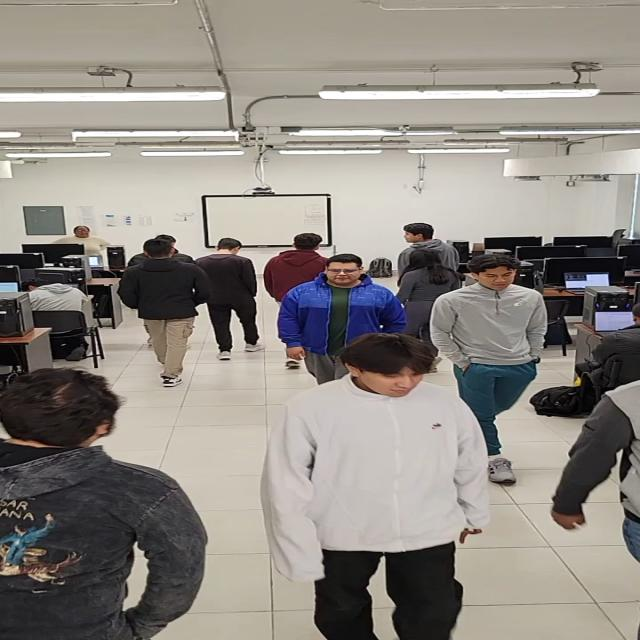Persona: (264, 334, 492, 640), (0, 365, 190, 640), (551, 345, 640, 640), (448, 252, 552, 480), (281, 250, 401, 362), (126, 228, 200, 400), (198, 228, 268, 363), (405, 250, 447, 334)
